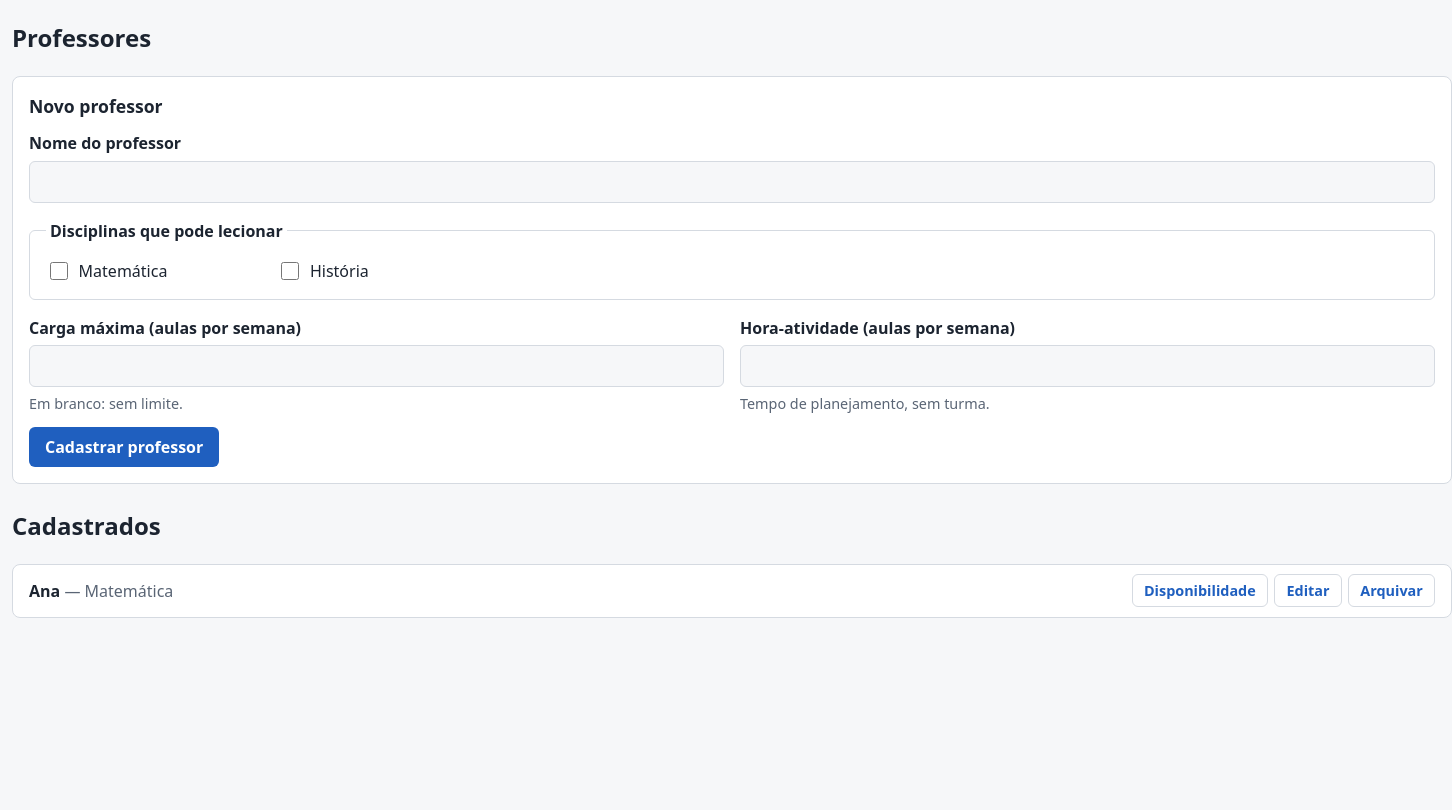
Test: TeachersPage › edição › carrega o professor no formulário e salva com a versão
The width and height of the screenshot is (1452, 810).
Click the button with aria-label "Editar Ana" at {"x": 1308, "y": 591}, box [1274,574,1342,607]
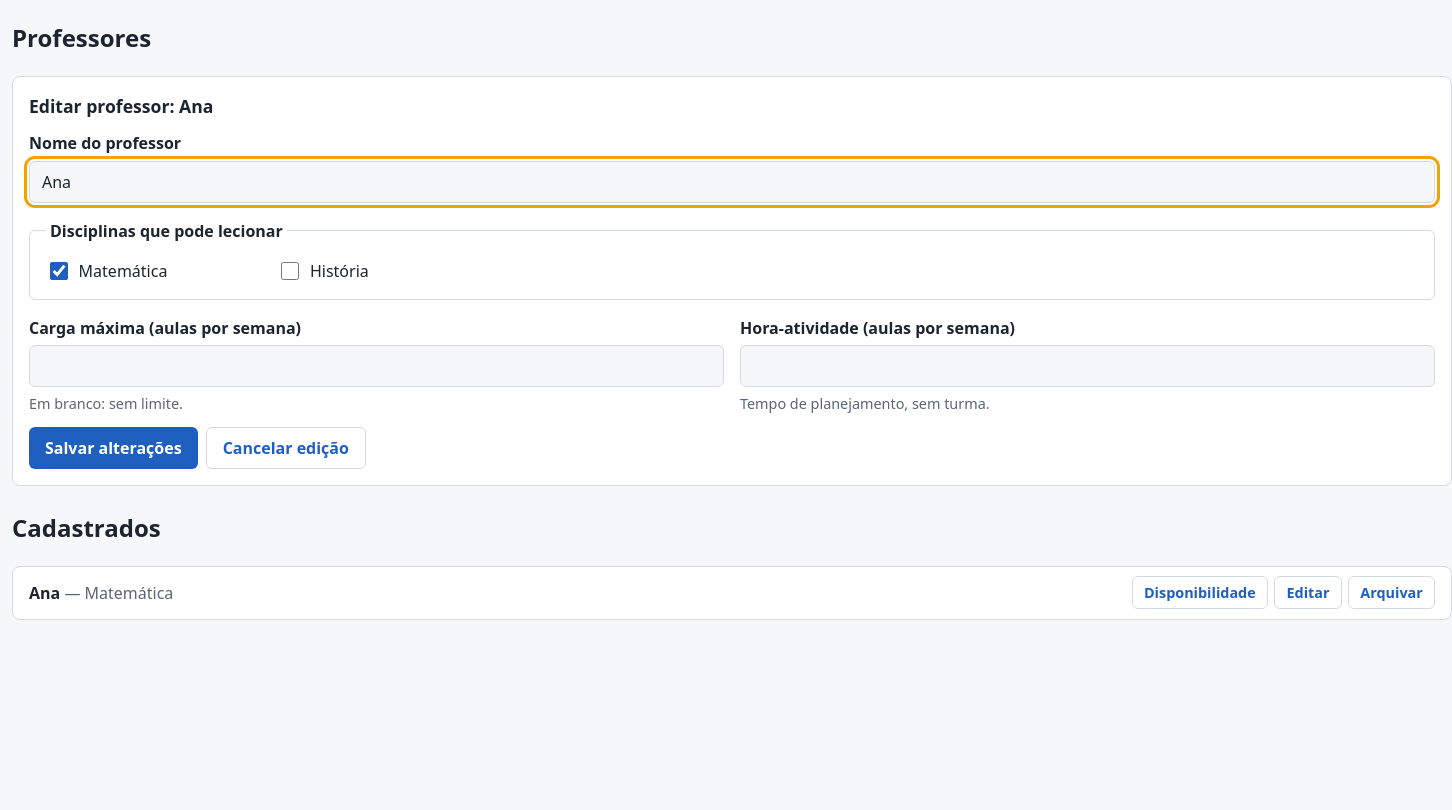
Expected: the heading with id "teacher-form-title" reads "Editar professor: Ana", [29,94,213,118]
Expected: the field with id "teacher-name" holds "Ana"
Replace the text in the field with id "teacher-name" with "Ana Souza" at {"x": 732, "y": 182}, box [29,161,1435,203]
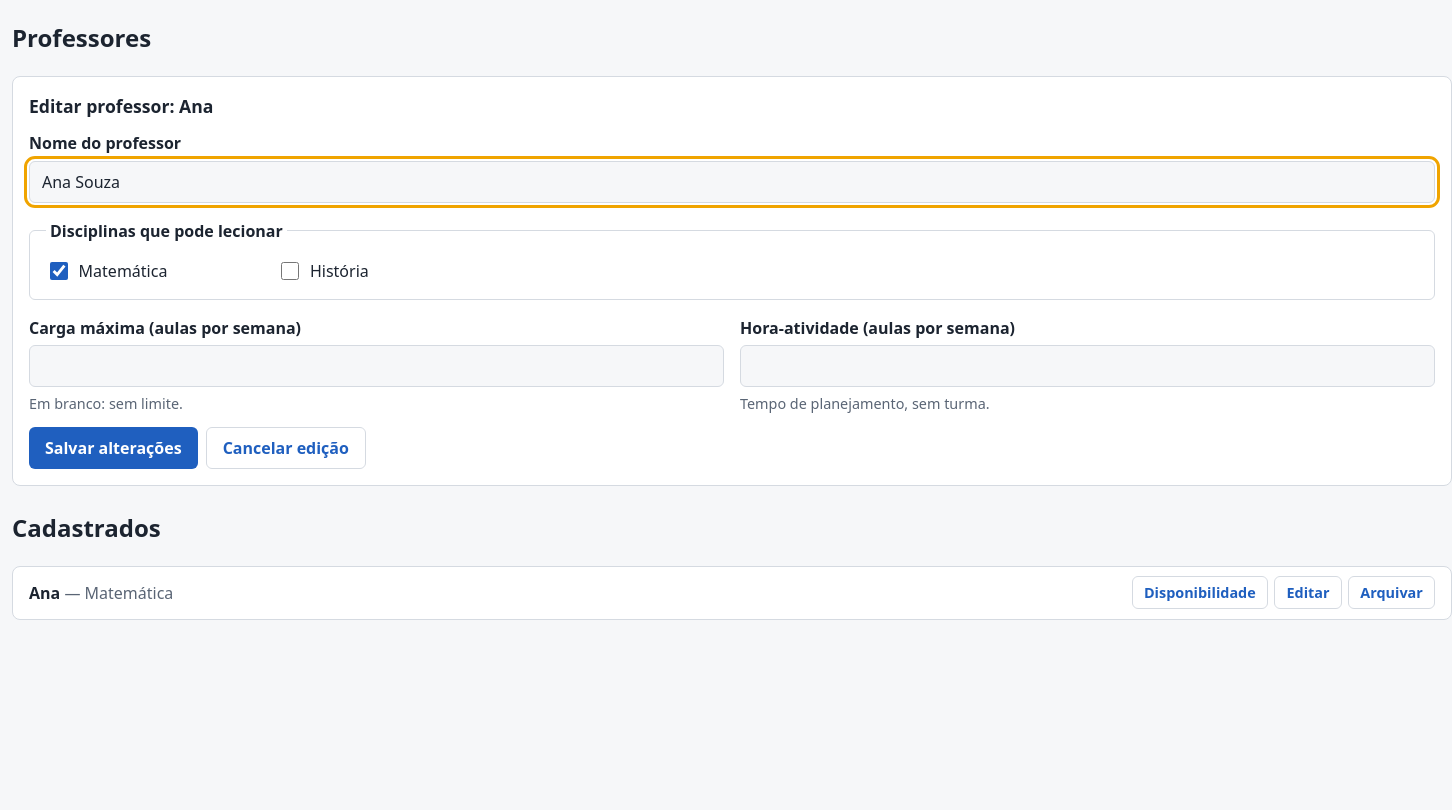
Click the checkbox labelled "História" at {"x": 290, "y": 271}, box [281,262,299,280]
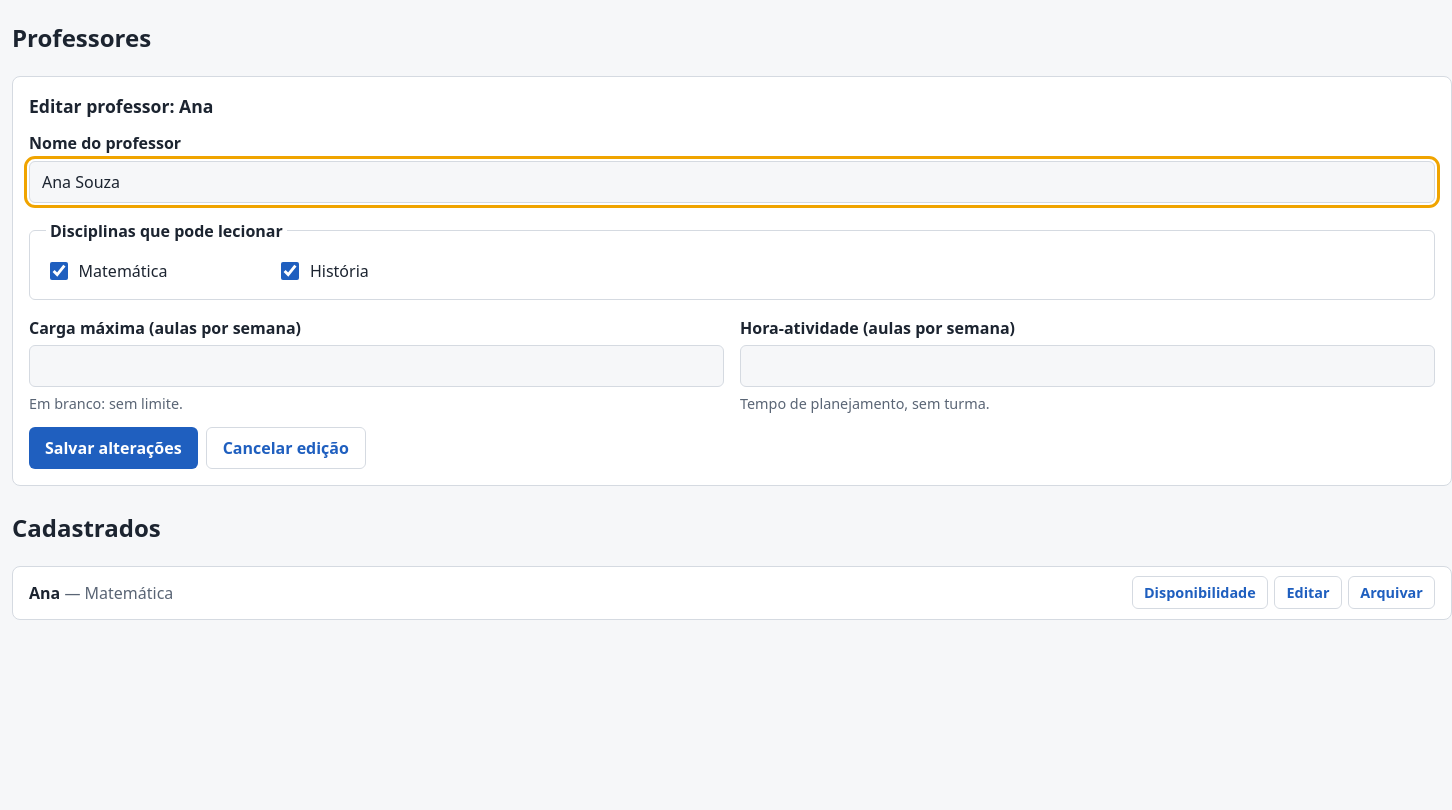
Submit the form, box [12,76,1451,486]
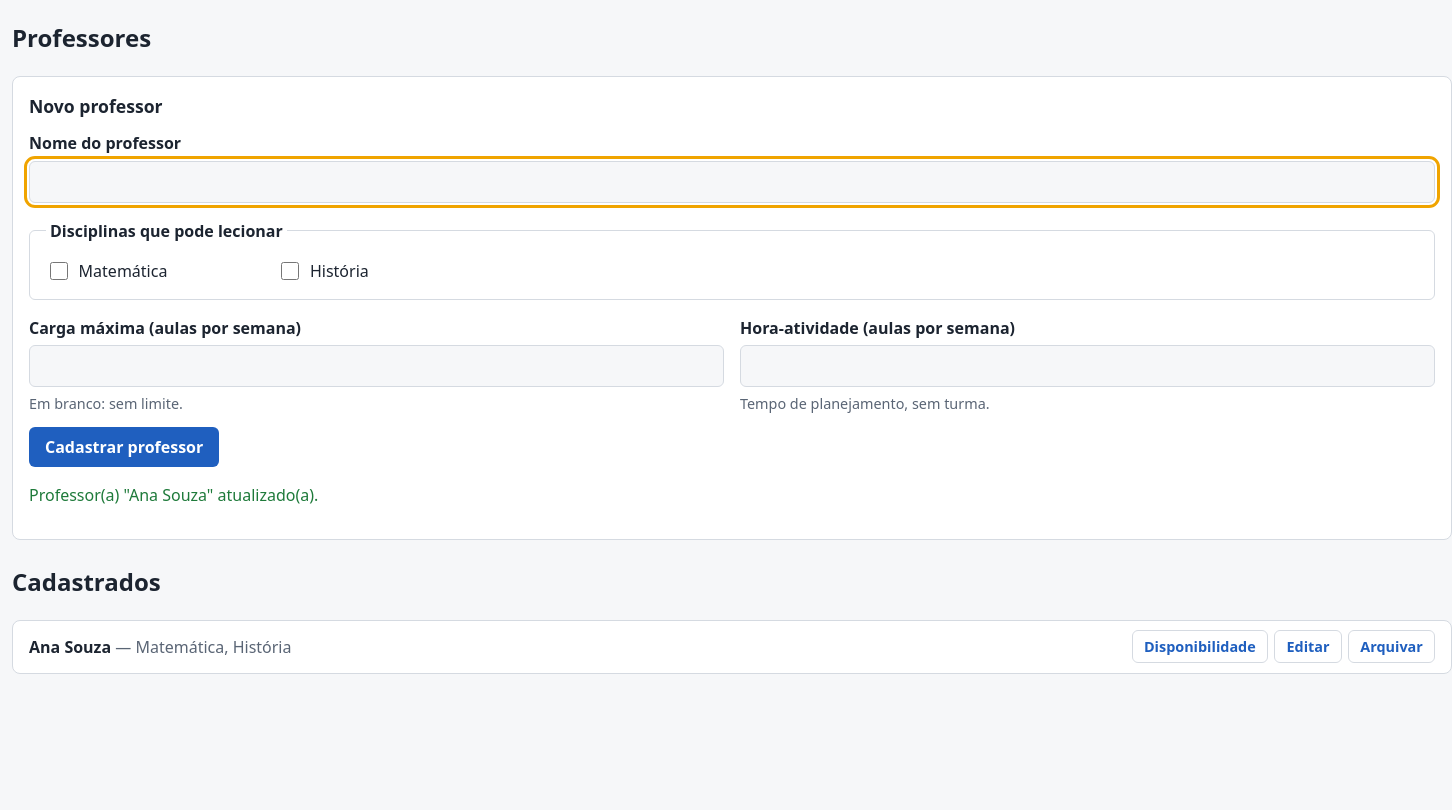
Expected: the message "Professor(a) \"Ana Souza\" atualizado(a)." reads "Professor(a) \"Ana Souza\" atualizado(a).", [29,484,318,506]
Expected: the heading with id "teacher-form-title" reads "Novo professor", [29,94,163,118]
